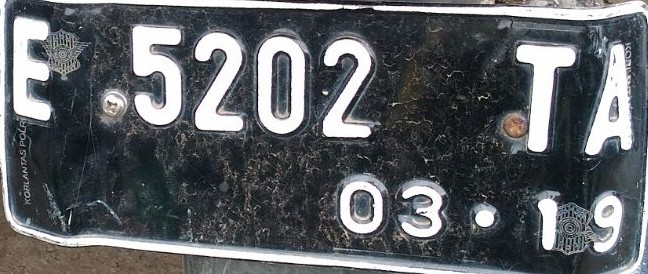plate: (1, 1, 647, 274)
